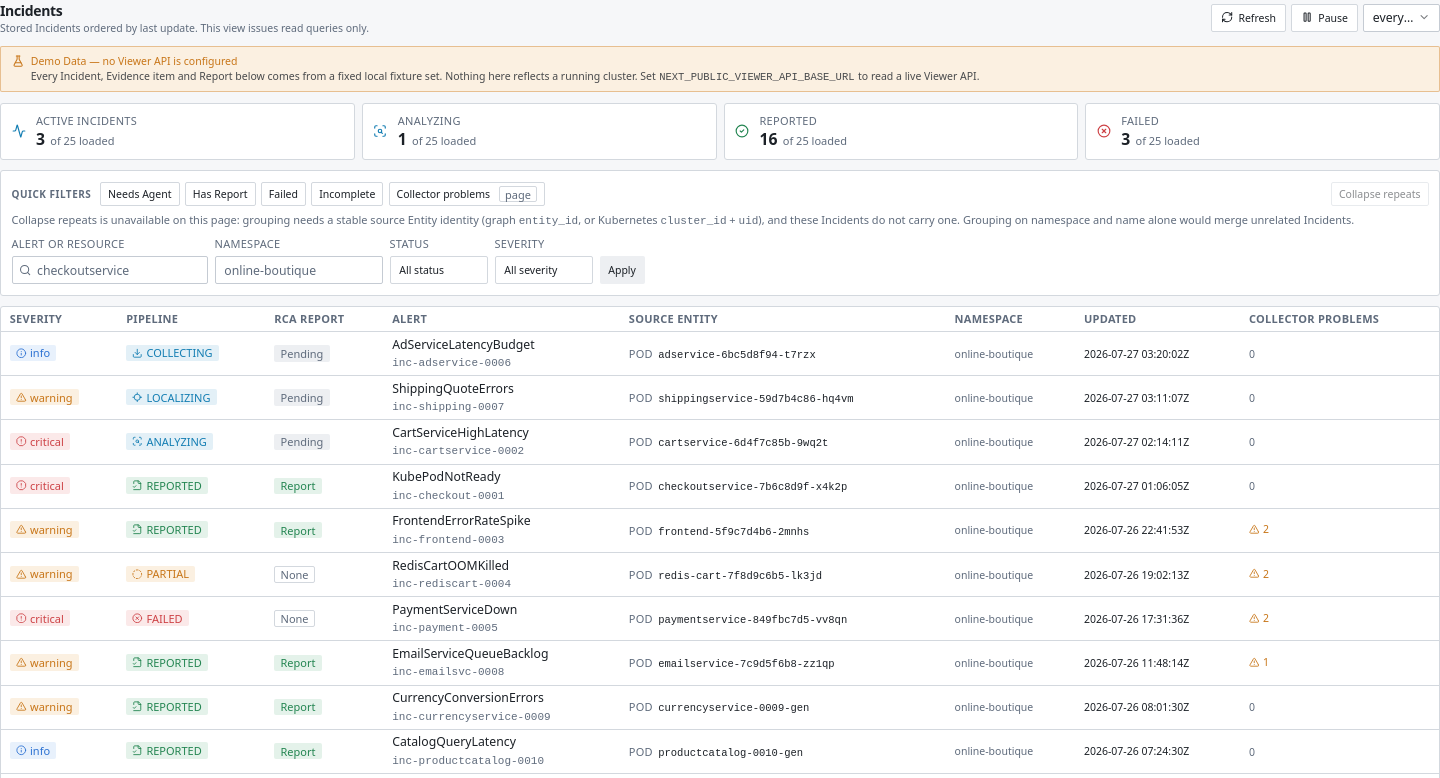
Test case: IncidentListView filtering › sends the search term only after Apply is pressed
Step 1. Type "cartservice" into the field labelled "Alert or resource" → (110, 270), box 12,256 -> 208,284
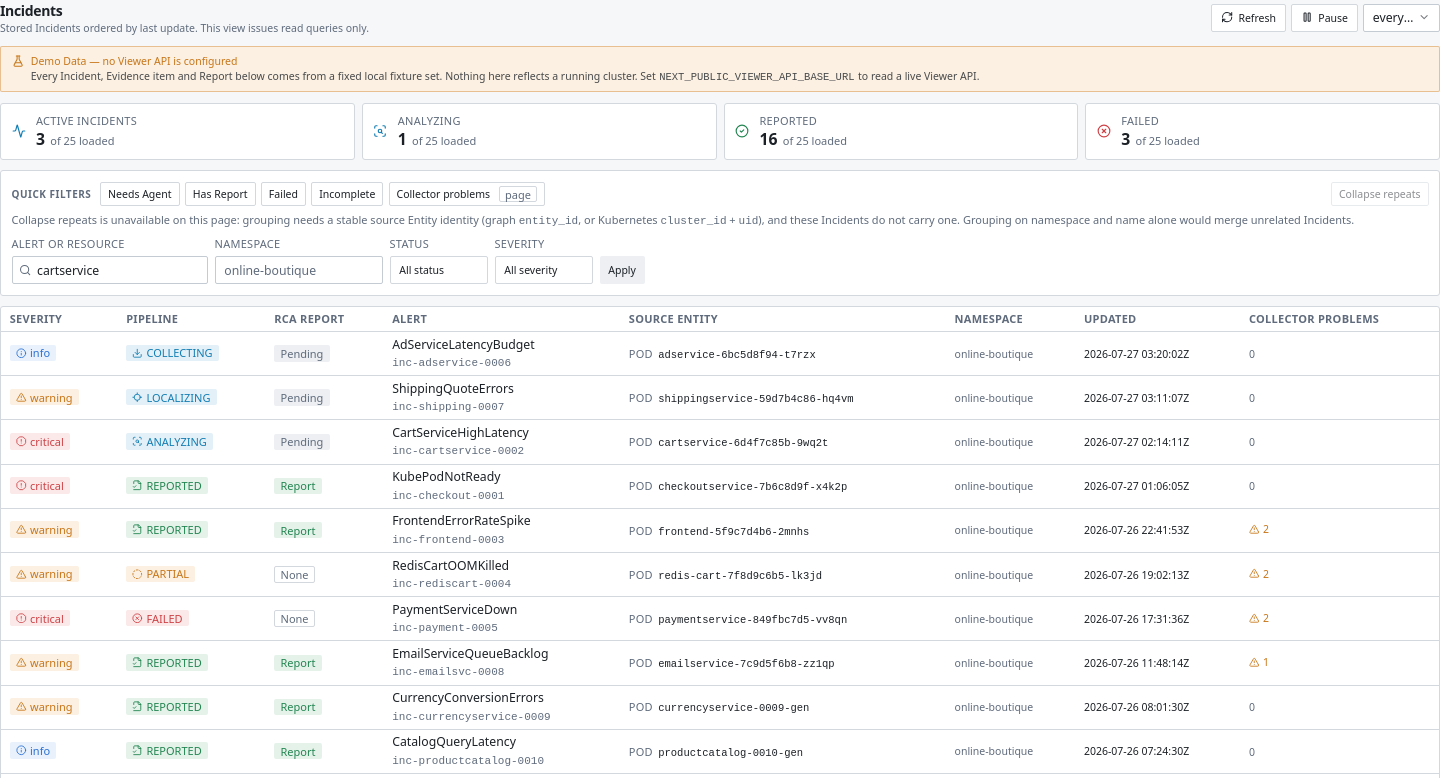
Step 2. Click the button "Apply" → (622, 270), box 600,256 -> 645,284
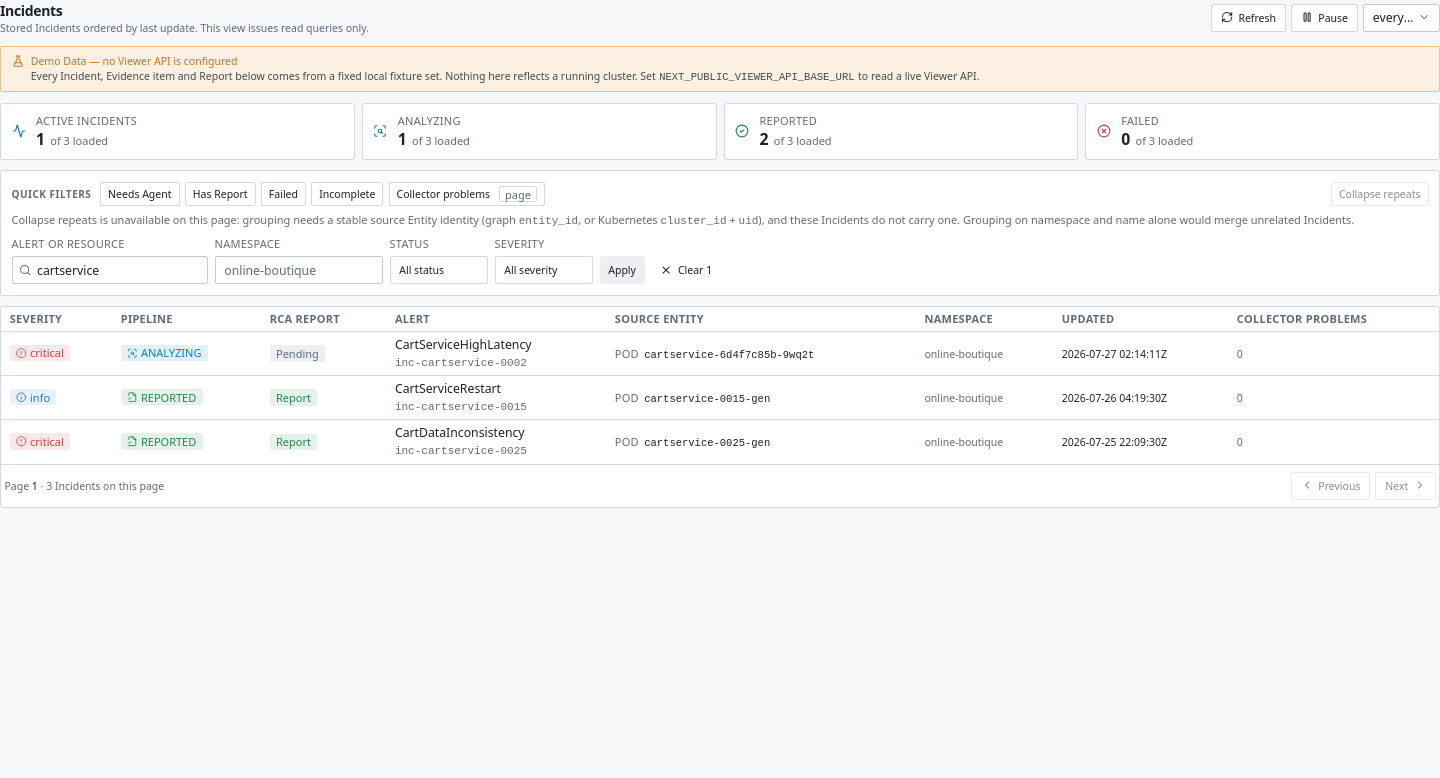
expect the link "CartServiceHighLatency" is shown: met, box 395,336 -> 532,352
expect the link "KubePodNotReady" is gone: met
